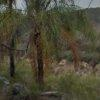Tree: (8, 0, 98, 57)
